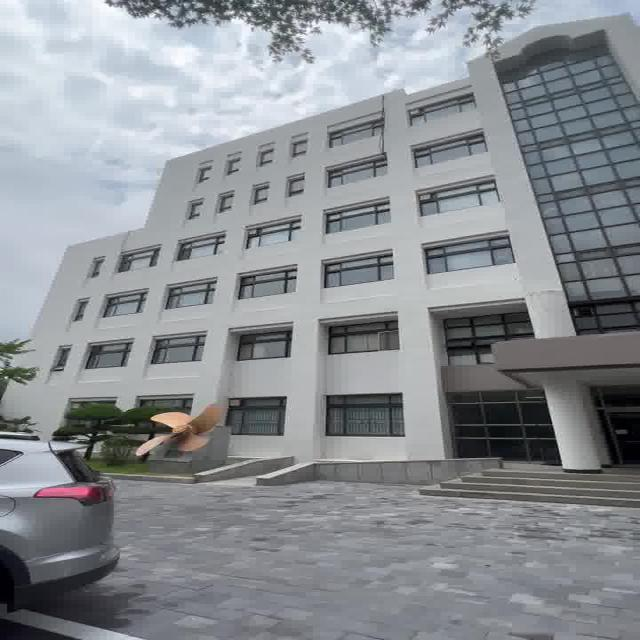building: (151, 55, 640, 475)
